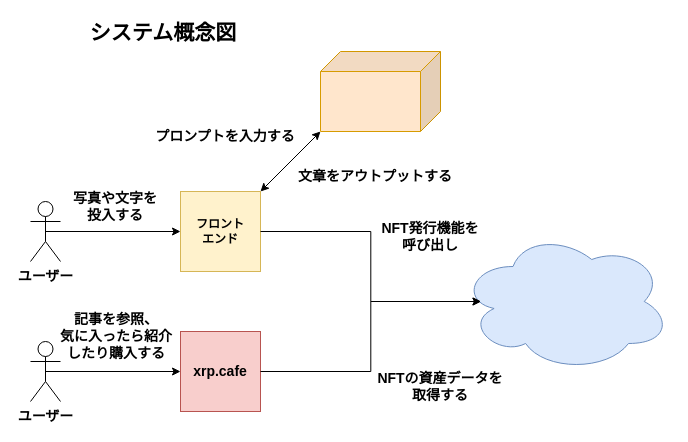
Some shapes in this 688 by 442 pixel diagram are drawn without their labels. The shapes that lost their labels are listed below. From the top down, each one's centre as x and y in pixels, then its label:
At (x=380, y=91): "Open API サーバー".
At (x=565, y=301): "XRP Ledger".
